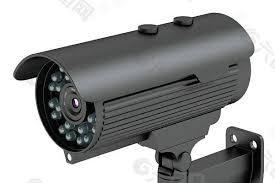tutu: (12, 9, 254, 167)
